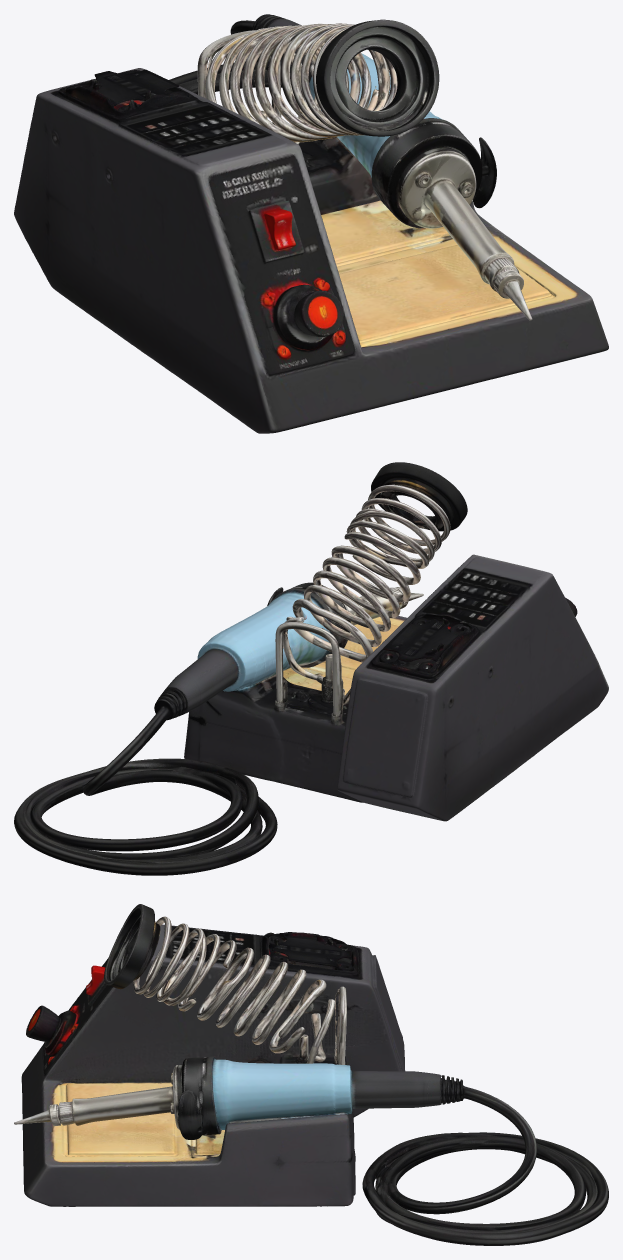
The model's file is Station.glb.
3 renders of one model, top to bottom at view 1: azimuth 30°, elevation 25°; view 2: azimuth 150°, elevation 25°; view 3: azimuth 270°, elevation 25°, orthographic. The views are drawn at different scales.
Bounding box in the file's own units: 1.2 × 0.8649 × 1.9.
Materials: 1 (1 with a texture image).
